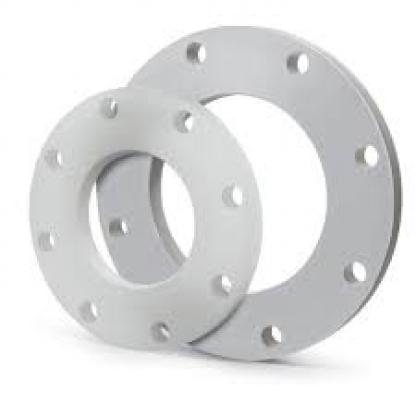FOD: (125, 11, 406, 374), (20, 91, 228, 355)
